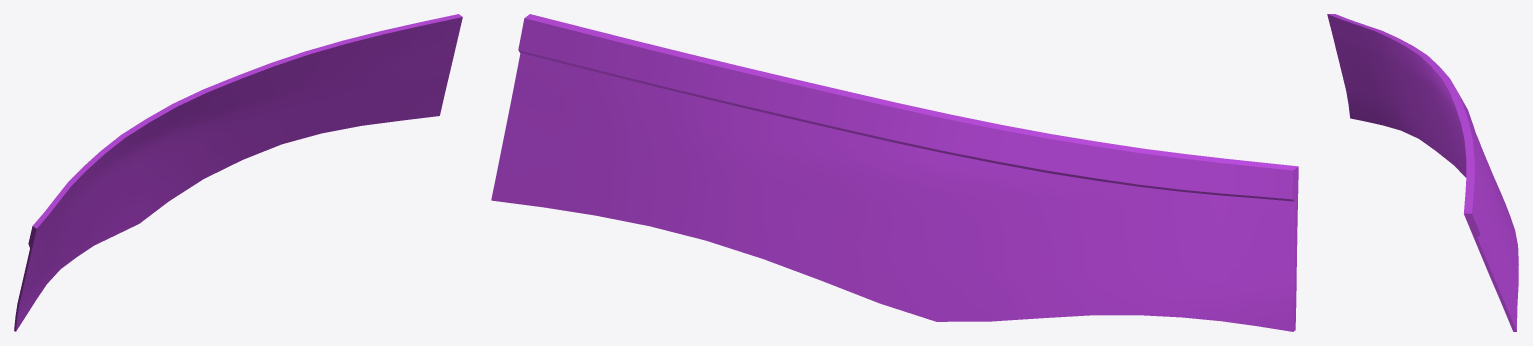
Rendered from SM_CarlosSA_Trousers_BackPockets_1FlapsR.fbx.
3 views of the same model, side by side, from view 1: azimuth 30°, elevation 25°; view 2: azimuth 150°, elevation 25°; view 3: azimuth 270°, elevation 25° (orthographic). The views are drawn at different scales.
Visible parts, largest first — view 1: SM_CarlosSA_Trousers_BackPockets_1FlapsR; view 2: SM_CarlosSA_Trousers_BackPockets_1FlapsR; view 3: SM_CarlosSA_Trousers_BackPockets_1FlapsR.
Part boxes in pixels (left/top/right/bottom): SM_CarlosSA_Trousers_BackPockets_1FlapsR: left=14, top=14, right=462, bottom=331; SM_CarlosSA_Trousers_BackPockets_1FlapsR: left=491, top=14, right=1298, bottom=331; SM_CarlosSA_Trousers_BackPockets_1FlapsR: left=1327, top=14, right=1518, bottom=331.
Bounding box in the file's own units: 0.0912 × 0.026 × 0.03.
